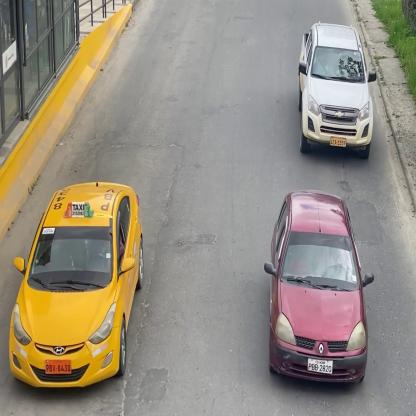Placa: (46, 360, 73, 375), (309, 360, 333, 376), (329, 136, 347, 149)
